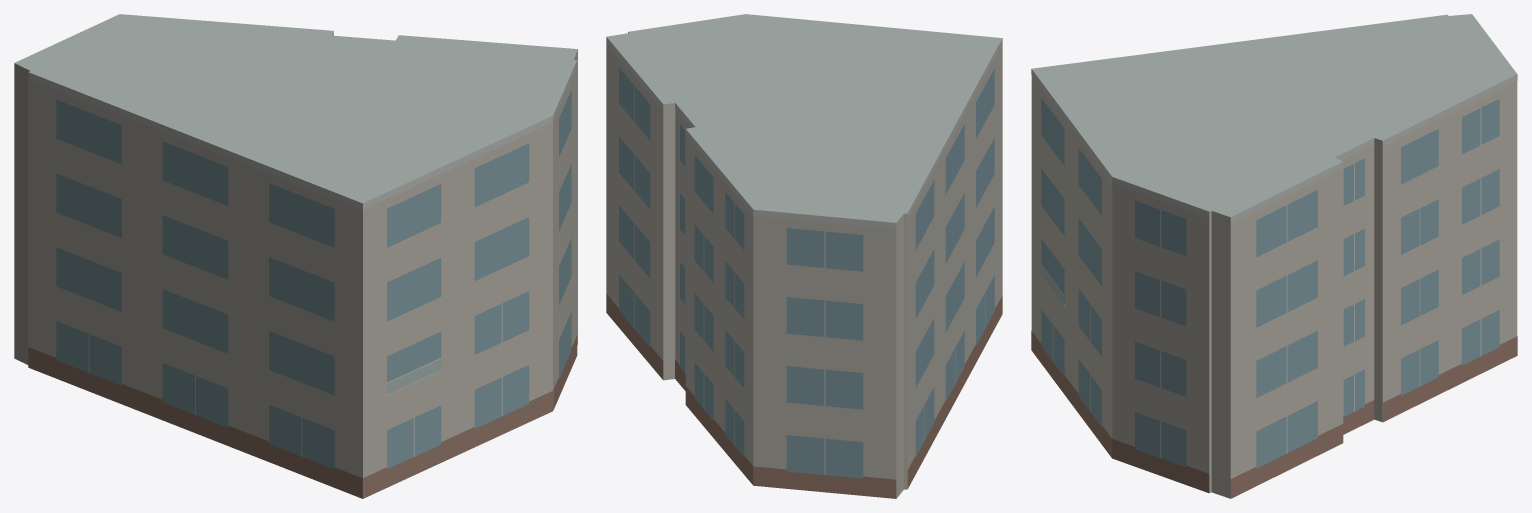
Rendered from survey-upis-32990218.glb.
3 renders of one model, left to right at view 1: azimuth 30°, elevation 25°; view 2: azimuth 150°, elevation 25°; view 3: azimuth 270°, elevation 25°, orthographic. The views are drawn at different scales.
Parts seen in each view (by area): view 1: survey-upis-32990218.tmp; view 2: survey-upis-32990218.tmp; view 3: survey-upis-32990218.tmp.
Boxes of the visible parts, <box> form: survey-upis-32990218.tmp: <box>14,14,577,498</box>; survey-upis-32990218.tmp: <box>606,14,1002,498</box>; survey-upis-32990218.tmp: <box>1031,14,1517,498</box>.
Size of the model in its own units: 16.73 by 10.8 by 16.9.
